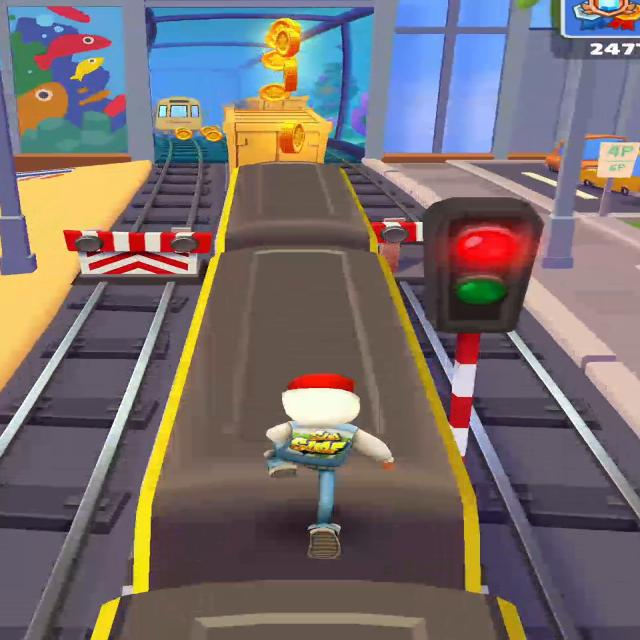blocker: (371, 219, 422, 272)
roll blocker: (63, 230, 213, 276)
traffic light: (423, 197, 543, 459)
train: (222, 107, 332, 169), (155, 96, 201, 132), (247, 96, 309, 110)
